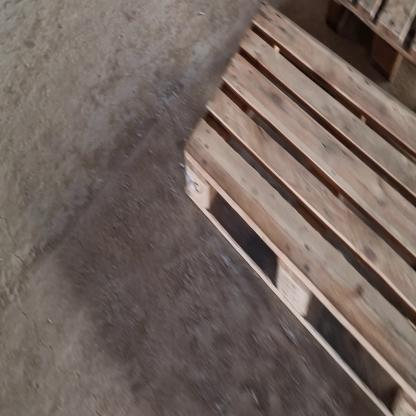BoxFace: (184, 0, 416, 416), (325, 0, 416, 102)
